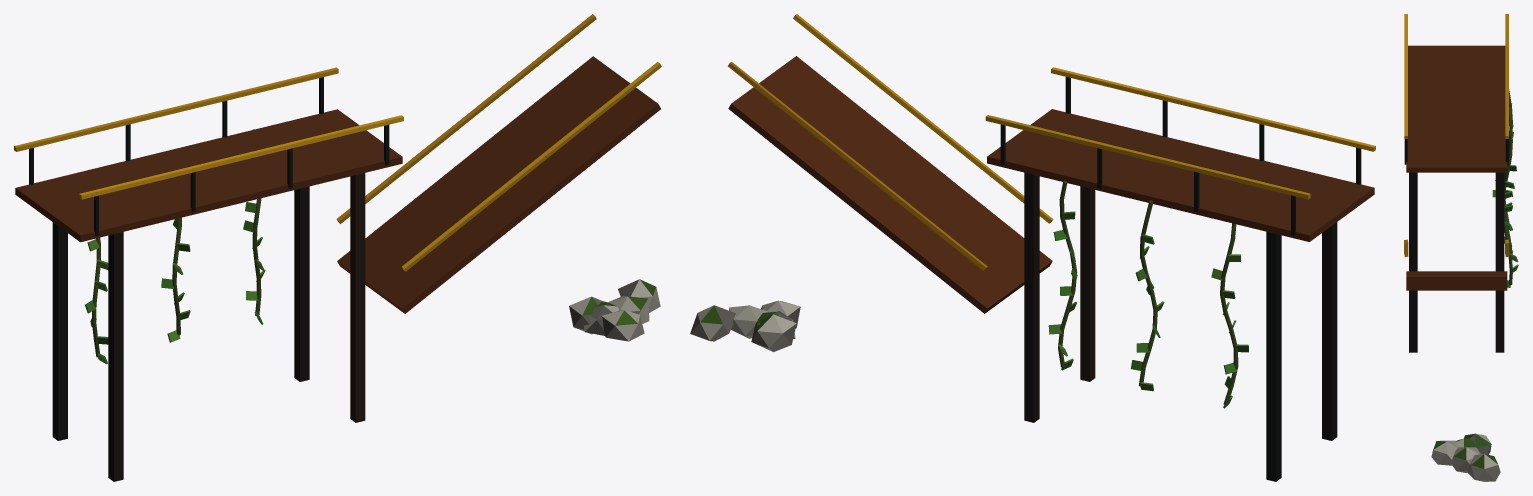
The model's file is broken_catwalk.glb.
3 views of the same model, side by side, from view 1: azimuth 30°, elevation 25°; view 2: azimuth 150°, elevation 25°; view 3: azimuth 270°, elevation 25° (orthographic). The views are drawn at different scales.
Visible parts, largest first — view 1: Mesh; view 2: Mesh; view 3: Mesh.
Part boxes in pixels (bbox=[...]): Mesh: bbox=[14, 14, 661, 481]; Mesh: bbox=[690, 14, 1375, 481]; Mesh: bbox=[1404, 14, 1518, 481].
Size of the model in its own units: 7.78 by 3.65 by 1.59.
